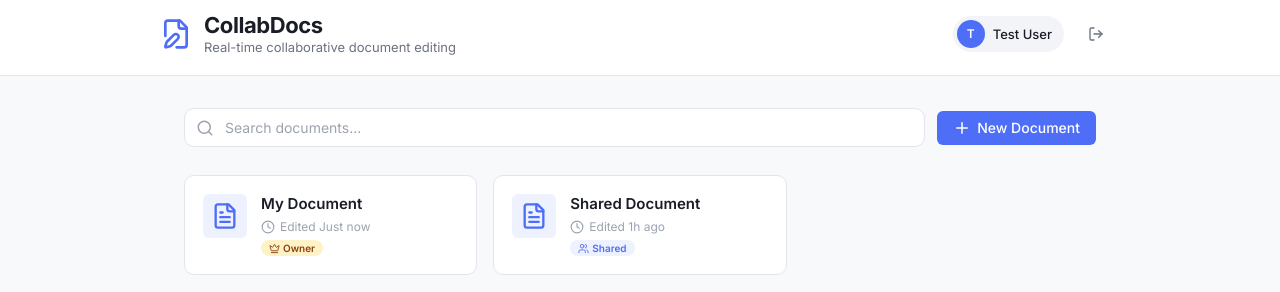
Scenario: HomePage › should filter documents by search
The image size is (1280, 292).
Expected: the heading "My Document" is shown, 261,194 -> 362,213
Type "Shared" into the field with placeholder "Search documents..." at point(555, 128), box 184,108 -> 925,147
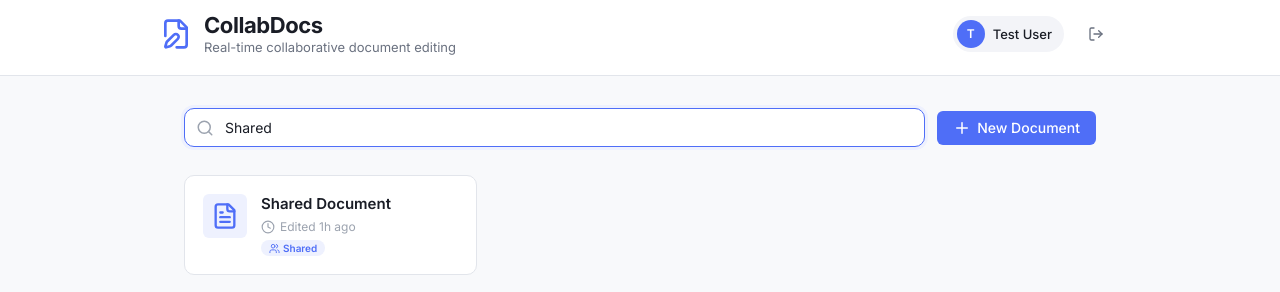
Expected: the heading "Shared Document" is shown, 261,194 -> 391,213
Result: the heading "My Document" is gone
